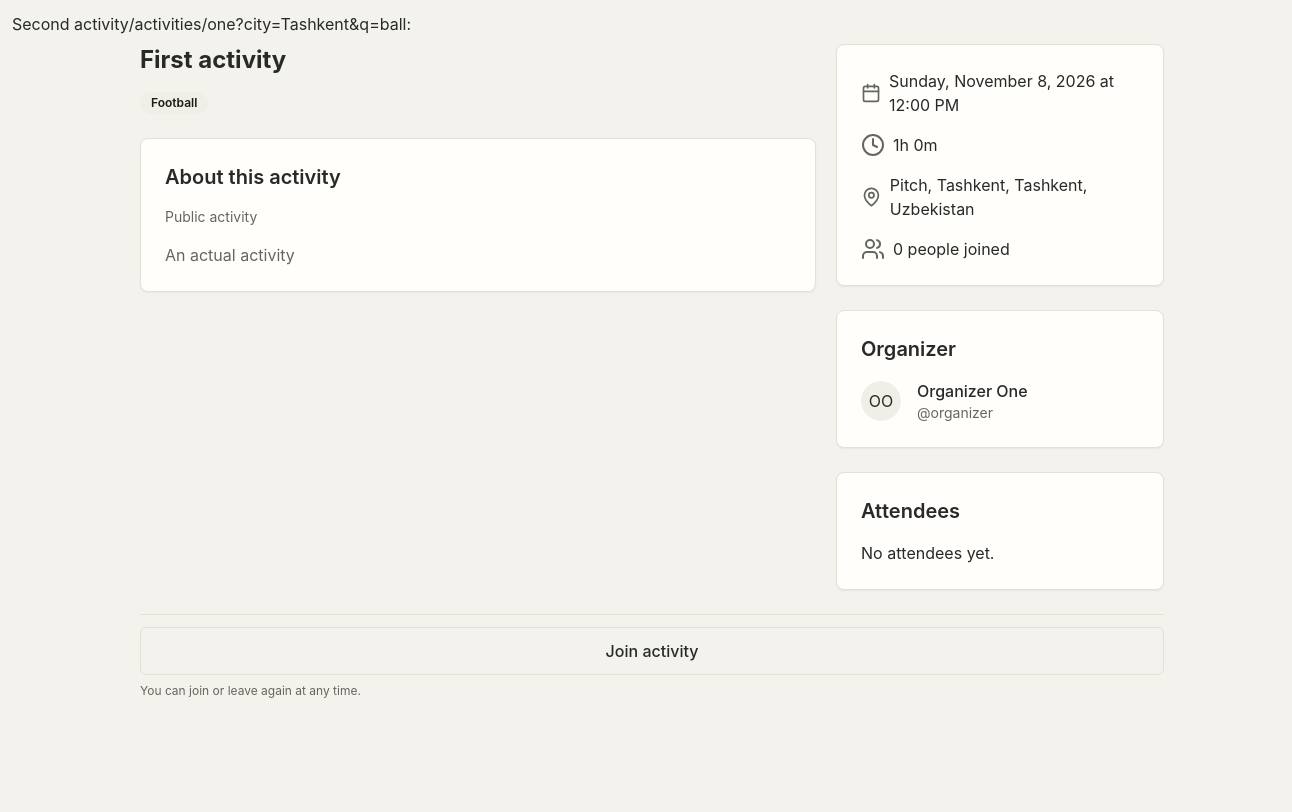
Test: preserves the exact detail and discovery query when asking anonymous visitors to log in
What coordinates should you click on to do the following:
click the link "Join activity"
I would click on:
 (652, 651)
Its box is [140, 627, 1164, 675].
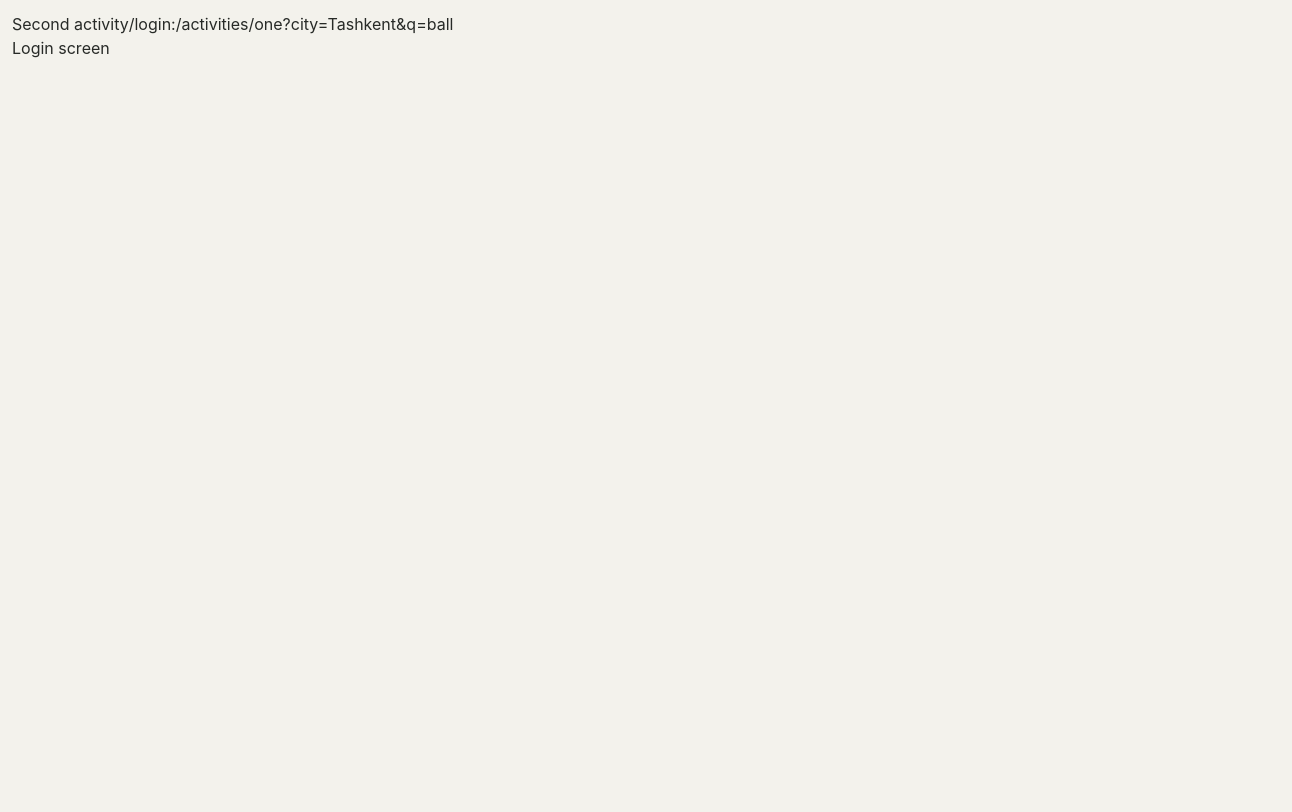
Expected: the text "/login:/activities/one?city=Tashkent&q=ball" is shown, [129, 14, 453, 34]
